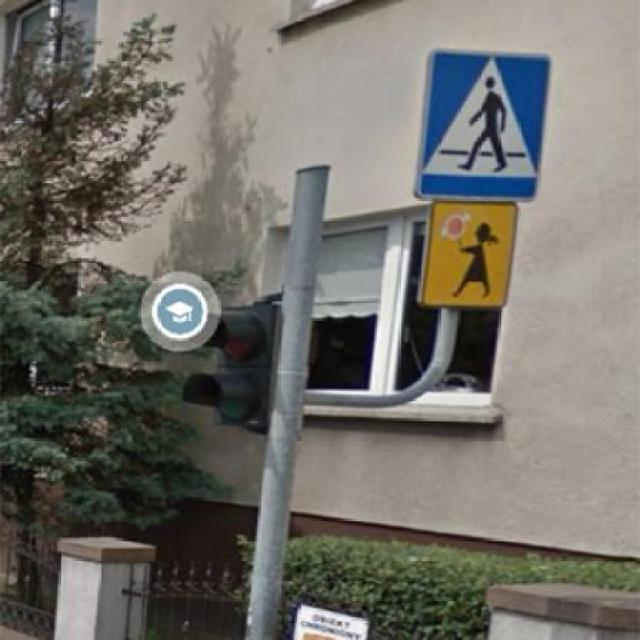Przejscie dla pieszych: (414, 46, 552, 203)
